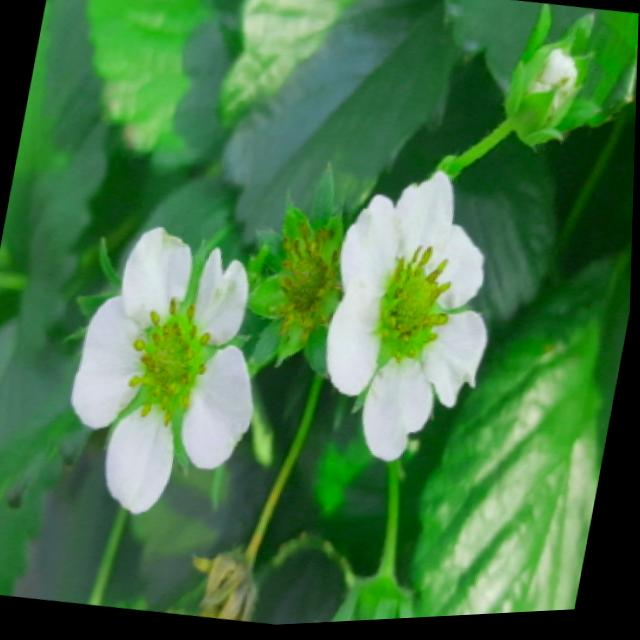Blossom Blight: (127, 295, 219, 431), (377, 245, 459, 373), (269, 220, 350, 339)
